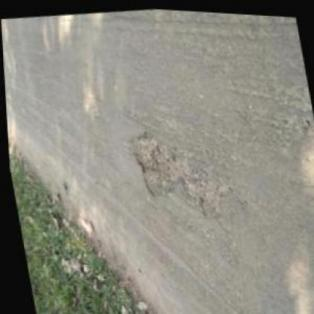Hueco: (124, 123, 182, 204), (178, 170, 231, 222)
